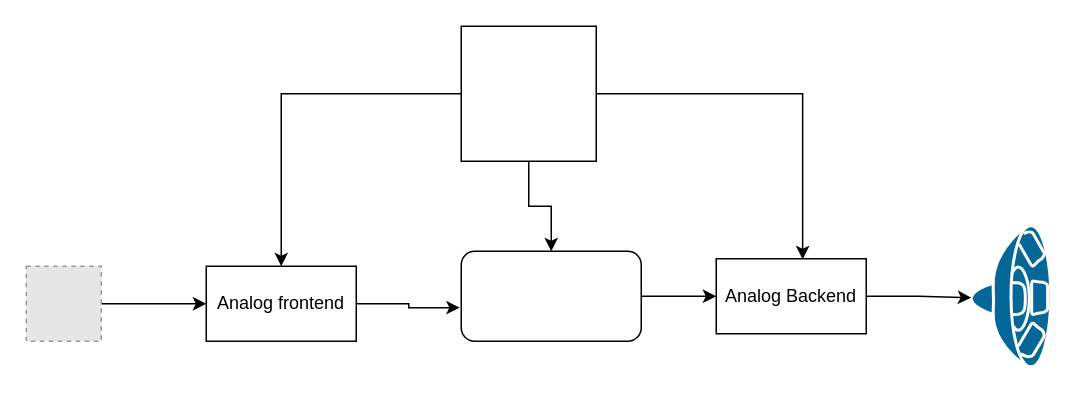
The diagram is 1079 pixels wide and 395 high, and some of its shapes have lost their labels. Grey dashed boxes stand in for pictures. Each missing label, with the centre of its shape:
"power supply (3.3v)" belongs at pixel 528 93.
"STM32" belongs at pixel 550 295.
